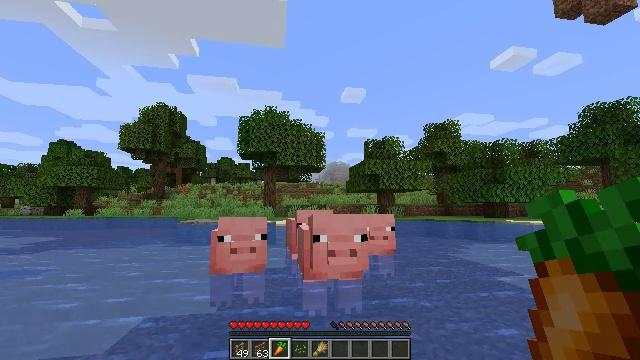pig: (301, 214, 362, 316), (209, 217, 265, 310), (285, 209, 333, 278), (357, 214, 397, 280)
